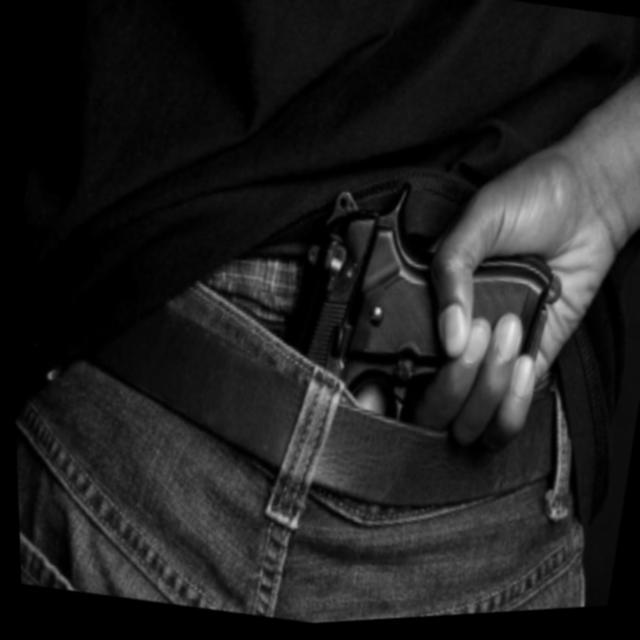weapon: (267, 160, 580, 458)
